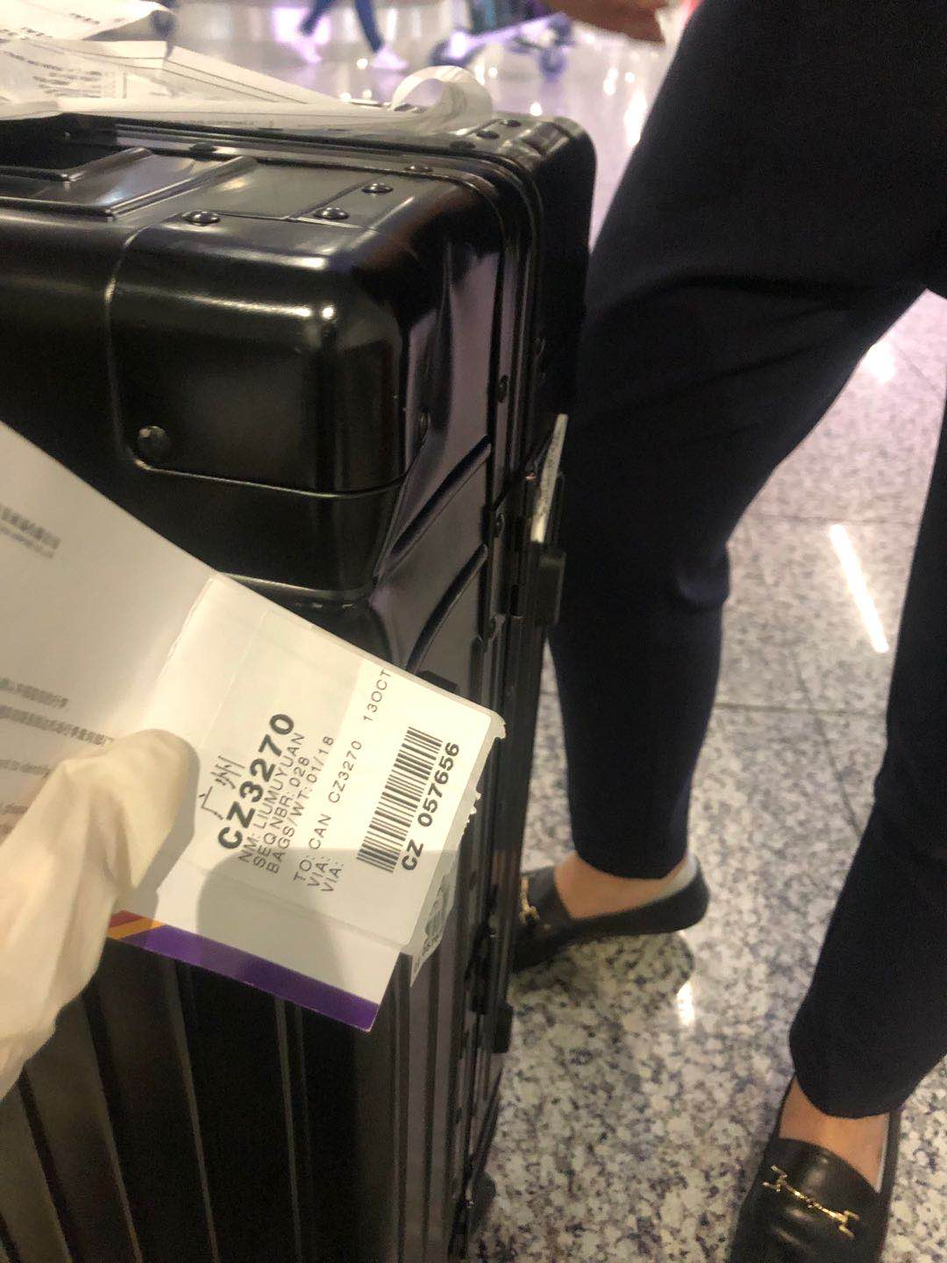rupture: (334, 461, 429, 670)
